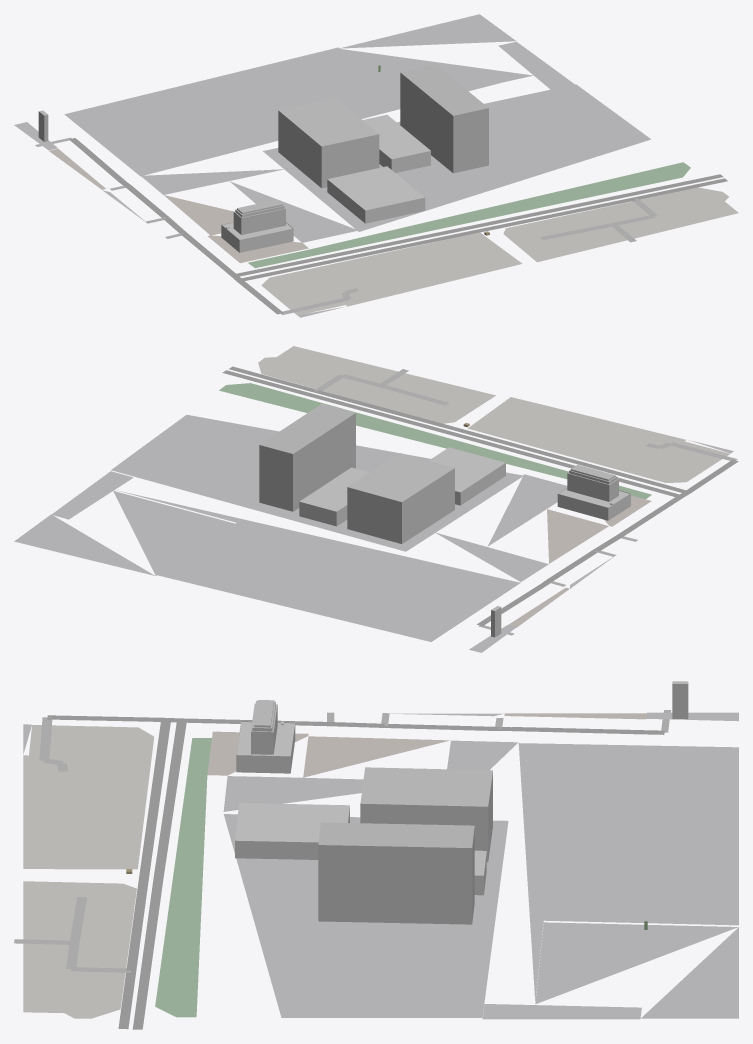
3 renders of one model, top to bottom at view 1: azimuth 30°, elevation 25°; view 2: azimuth 150°, elevation 25°; view 3: azimuth 270°, elevation 25°, orthographic. The views are drawn at different scales.
Bounding box in the file's own units: 523 × 59.93 × 507.
